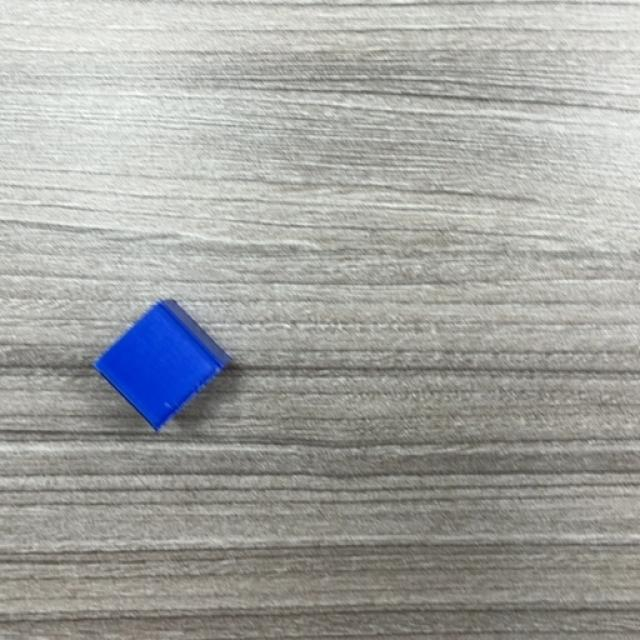Azul: (92, 299, 232, 432)
